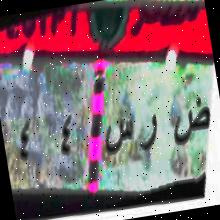4: (52, 102, 80, 170), (8, 115, 40, 170)
daad: (165, 89, 216, 154)
raa: (135, 110, 165, 160)
seen: (100, 110, 142, 166)
